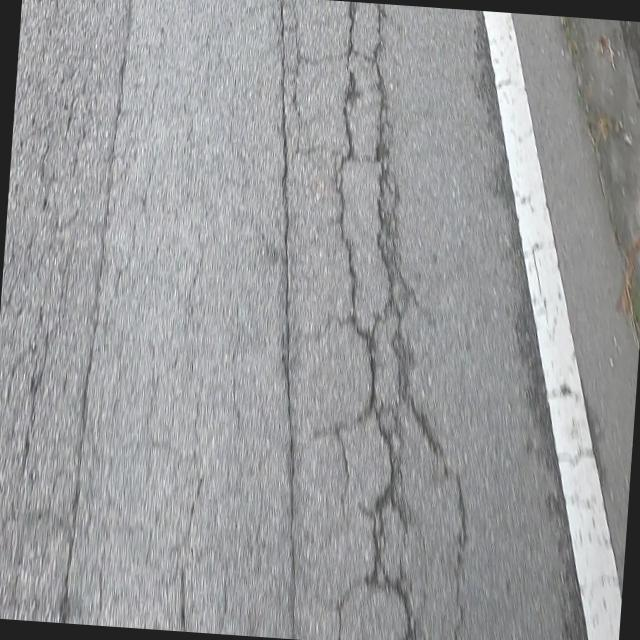Retak-Buaya: (283, 0, 469, 640), (0, 0, 127, 620)
